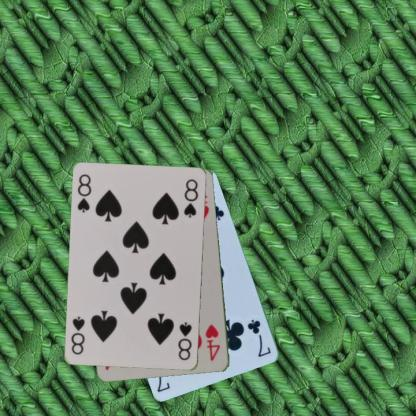4h: (203, 322, 222, 362)
7c: (245, 317, 272, 359)
8s: (175, 320, 194, 362), (75, 172, 93, 214)
